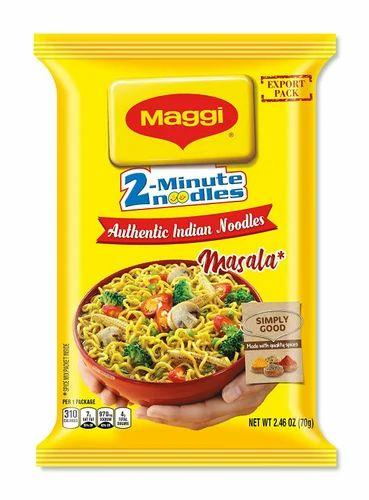Maggi: (33, 31, 341, 471)
